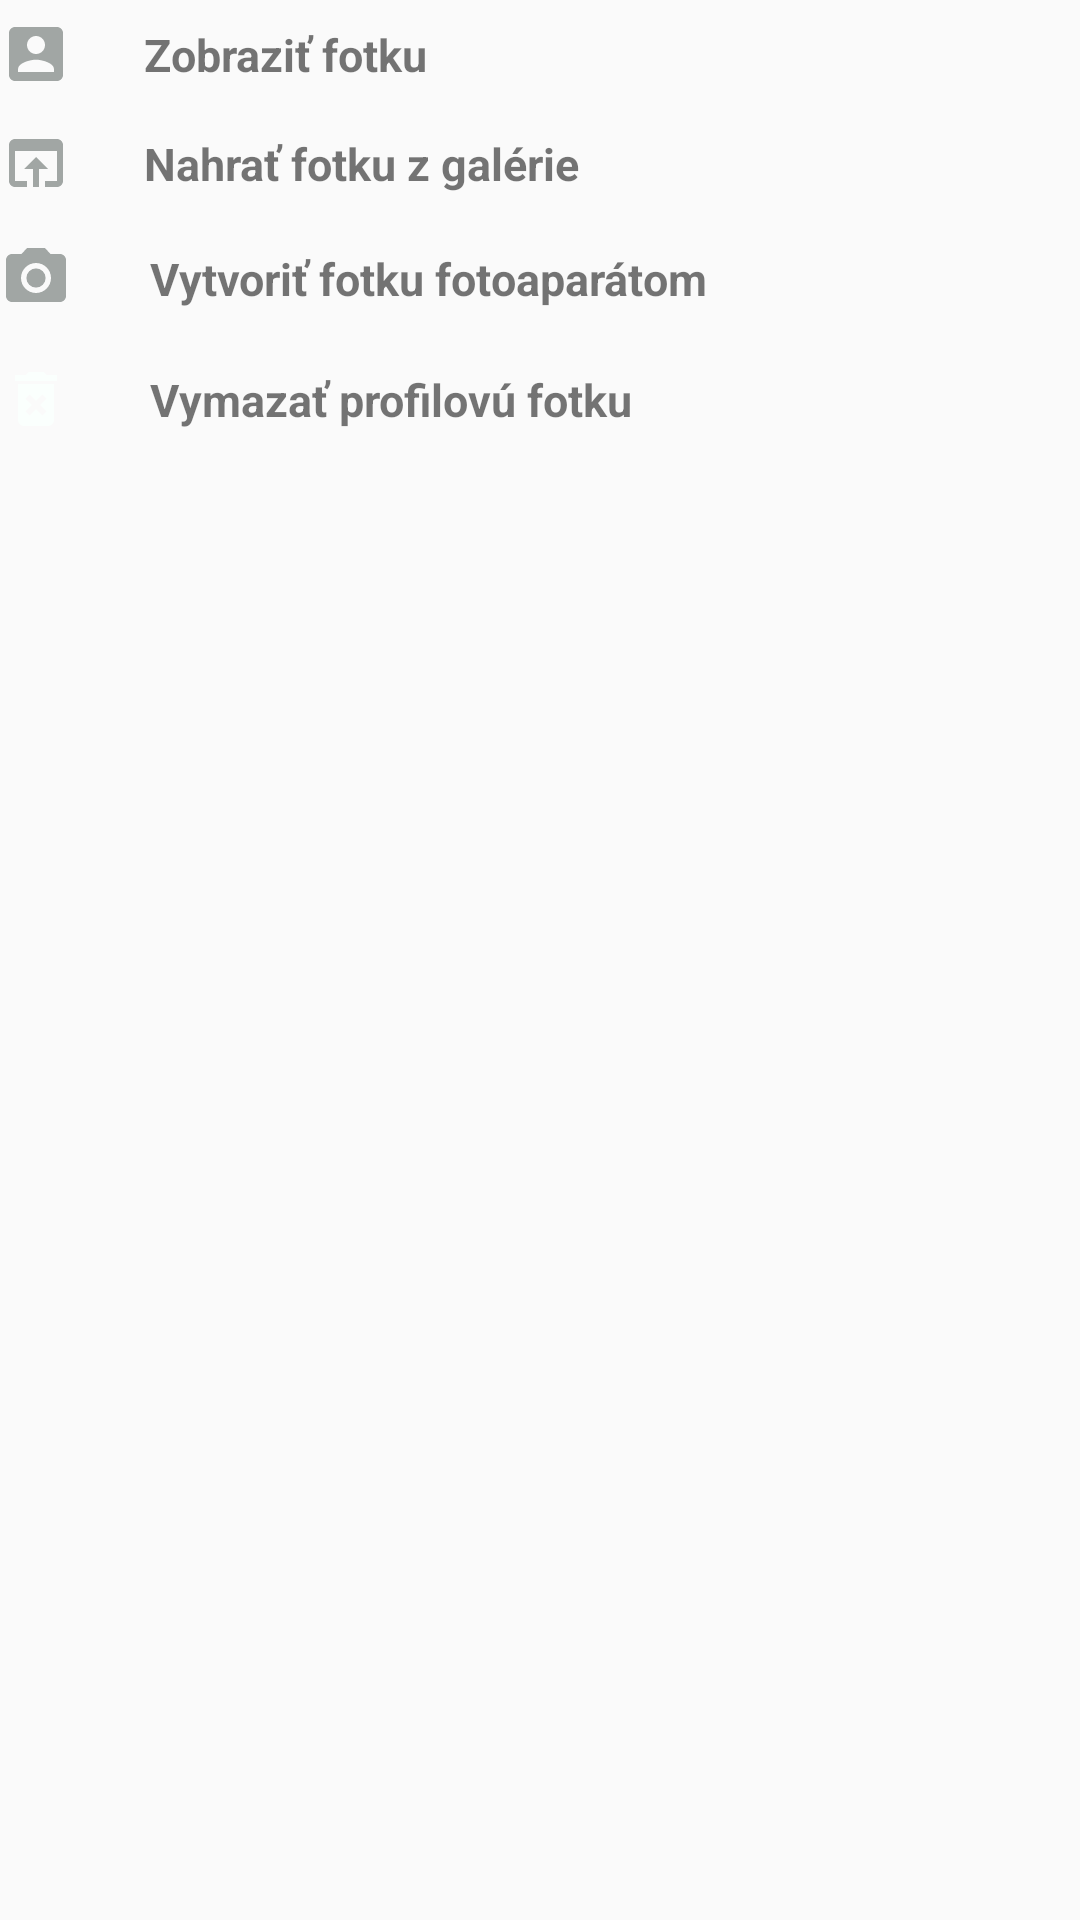

Screen size 1080w x 1920h. Icon name, then its center in pixels as (x=x, y=y):
account box: (x=36, y=54)
open in browser: (x=36, y=163)
photo camera: (x=36, y=275)
